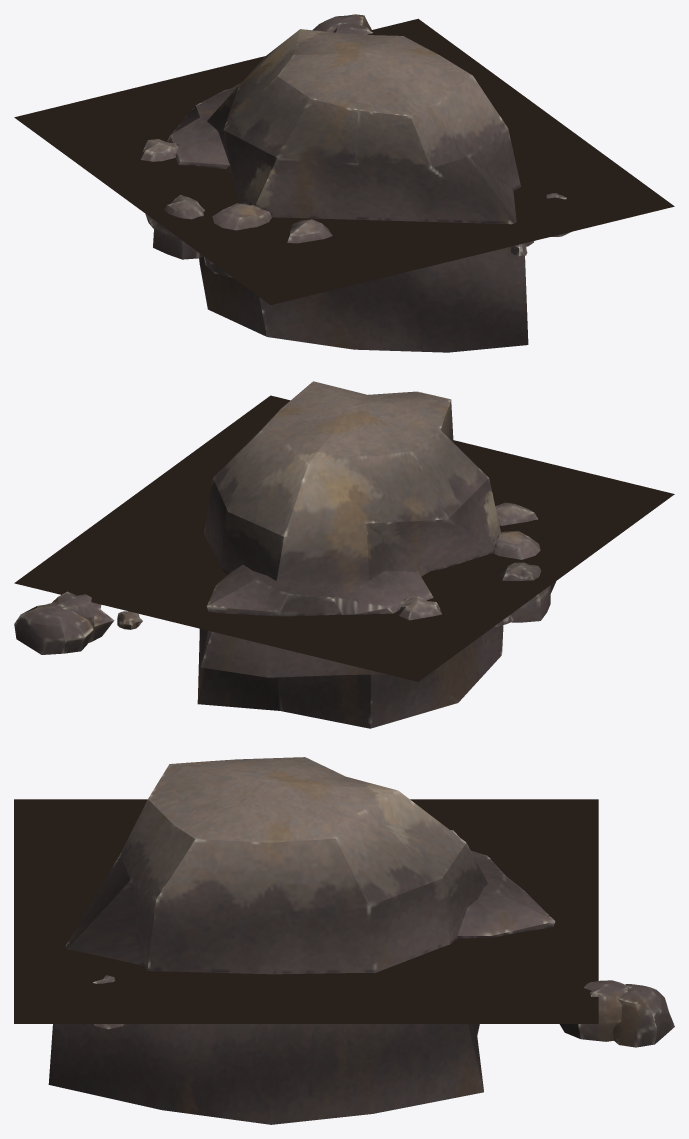
The picture shows the model from 3 angles, top to bottom: view 1: azimuth 30°, elevation 25°; view 2: azimuth 150°, elevation 25°; view 3: azimuth 270°, elevation 25°; orthographic projection. The views are drawn at different scales.
Visible parts, largest first — view 1: Stones, GroundShade; view 2: Stones, GroundShade; view 3: Stones, GroundShade.
Part boxes in pixels (box(x1,y1,x2,y2)): Stones: box(140, 14, 571, 352); GroundShade: box(14, 18, 674, 304); Stones: box(14, 381, 556, 728); GroundShade: box(14, 395, 674, 681); Stones: box(48, 757, 674, 1124); GroundShade: box(14, 799, 598, 1023).
Bounding box in the file's own units: 22.55 × 13.11 × 28.02.
Materials: 2 (2 with a texture image).
